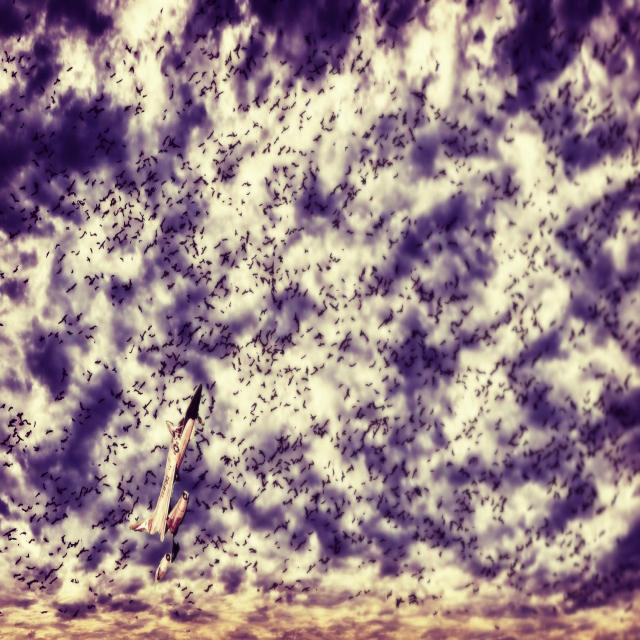airplane: (129, 382, 202, 592)
